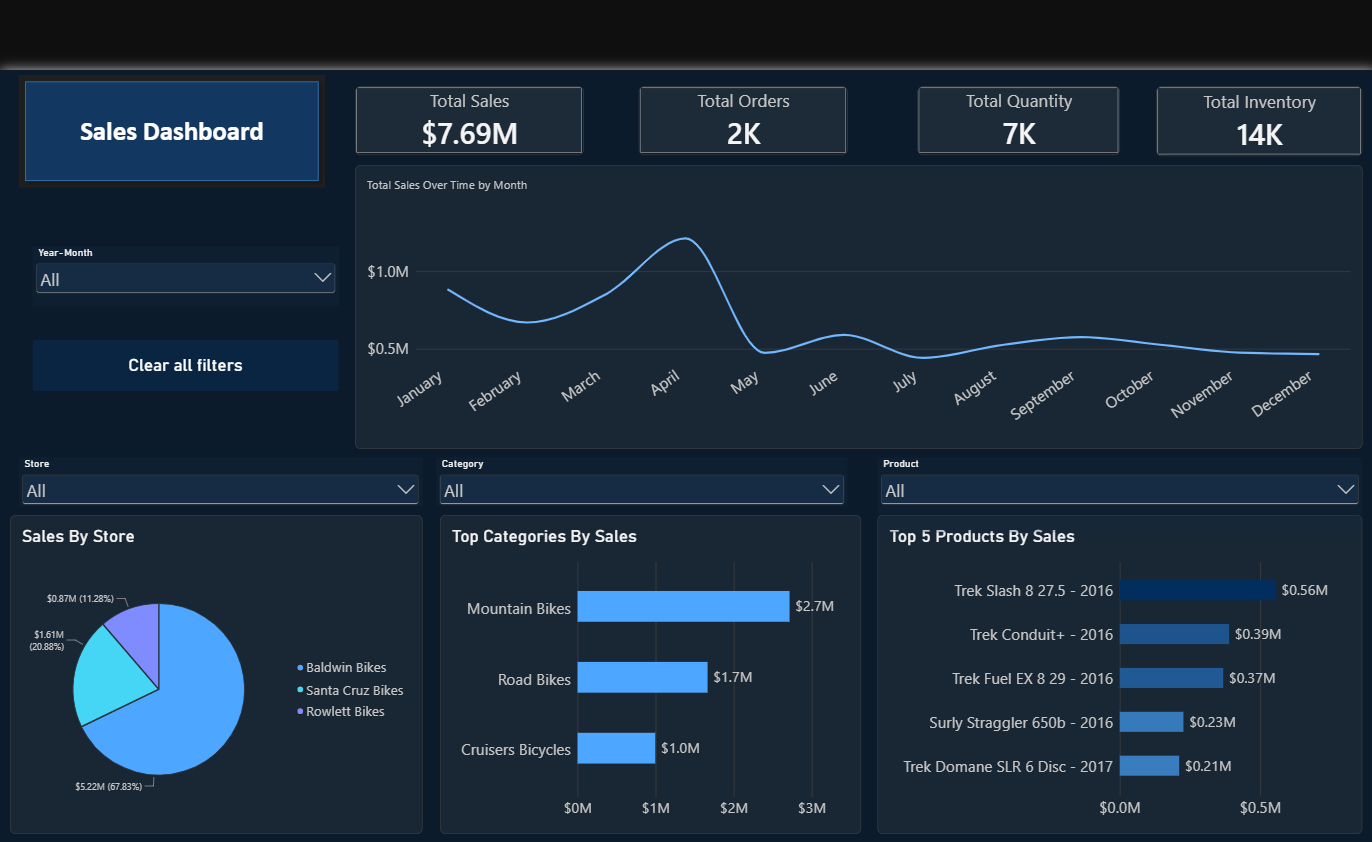

The dashboard page shown, as its layout file describes it:
{"tool":"powerbi","page":{"name":"Sales","canvas":[1920,1080],"ordinal":0},"visuals":[{"type":"cardVisual","fields":{"Data":["Fact_Sales.Total Sales"]},"box":[495,22.7,319,95.9],"z":0},{"type":"cardVisual","fields":{"Data":["Fact_Sales.Total Orders"]},"box":[890.6,22.7,291.1,95.9],"z":1000},{"type":"cardVisual","fields":{"Data":["Fact_Sales.Total Quantity"]},"box":[1279.3,22.7,282.4,95.9],"z":2000},{"type":"cardVisual","fields":{"Data":["Fact_Inventory.Total Inventory"]},"box":[1612.2,22.7,287.6,97.6],"z":3000},{"type":"lineChart","fields":{"Category":["DimDate.date.Variation.Date Hierarchy.Year","DimDate.date.Variation.Date Hierarchy.Quarter","DimDate.date.Variation.Date Hierarchy.Month","DimDate.date.Variation.Date Hierarchy.Day"],"Y":["Fact_Sales.Total Sales"]},"box":[495,132.5,1404.8,395.6],"z":4000},{"type":"pieChart","title":"Sales By Store","fields":{"Category":["DimStore.store_name"],"Y":["Fact_Sales.Total Sales"]},"box":[13.9,620.5,575.2,444.4],"z":5000},{"type":"clusteredBarChart","title":"Top 5 Products By Sales","fields":{"Category":["DimProduct.product_name"],"Y":["Fact_Sales.Total Sales"]},"box":[1223.5,620.5,676.3,444.4],"z":6000},{"type":"clusteredBarChart","title":"Top Categories By Sales","fields":{"Category":["DimProduct.category_name"],"Y":["Fact_Sales.Total Sales"]},"box":[613.5,620.5,587.4,444.4],"z":7000},{"type":"slicer","title":"Choose product name","fields":{"Values":["DimProduct.product_name"]},"box":[1223.5,540.3,676.3,104.6],"z":8000},{"type":"slicer","fields":{"Values":["DimDate.year_month"]},"box":[46.2,246.2,427.8,84.3],"z":9000},{"type":"slicer","fields":{"Values":["DimStore.store_name"]},"box":[26.1,540.3,563,68],"z":10000},{"type":"slicer","fields":{"Values":["DimProduct.category_name"]},"box":[608.3,540.3,573.4,68],"z":11000},{"type":"shape","box":[26.1,7,427,156.9],"z":12000},{"type":"actionButton","box":[45.3,376.5,427,71.5],"z":13000}]}

Visuals, with their boxes on the page's 1920x1080 design canvas (x1, y1, x2, y2). These are canvas units, not pixel positions in the 1372x842 screenshot, which may show the page scaled, cropped or inside an application window:
cardVisual - Fact_Sales.Total Sales: x1=495, y1=23, x2=814, y2=119
cardVisual - Fact_Sales.Total Orders: x1=891, y1=23, x2=1182, y2=119
cardVisual - Fact_Sales.Total Quantity: x1=1279, y1=23, x2=1562, y2=119
cardVisual - Fact_Inventory.Total Inventory: x1=1612, y1=23, x2=1900, y2=120
lineChart - DimDate.date.Variation.Date Hierarchy.Year x DimDate.date.Variation.Date Hierarchy.Quarter: x1=495, y1=132, x2=1900, y2=528
"Sales By Store" pieChart: x1=14, y1=620, x2=589, y2=1065
"Top 5 Products By Sales" clusteredBarChart: x1=1224, y1=620, x2=1900, y2=1065
"Top Categories By Sales" clusteredBarChart: x1=614, y1=620, x2=1201, y2=1065
"Choose product name" slicer: x1=1224, y1=540, x2=1900, y2=645
slicer - DimDate.year_month: x1=46, y1=246, x2=474, y2=330
slicer - DimStore.store_name: x1=26, y1=540, x2=589, y2=608
slicer - DimProduct.category_name: x1=608, y1=540, x2=1182, y2=608
shape: x1=26, y1=7, x2=453, y2=164
actionButton: x1=45, y1=376, x2=472, y2=448
